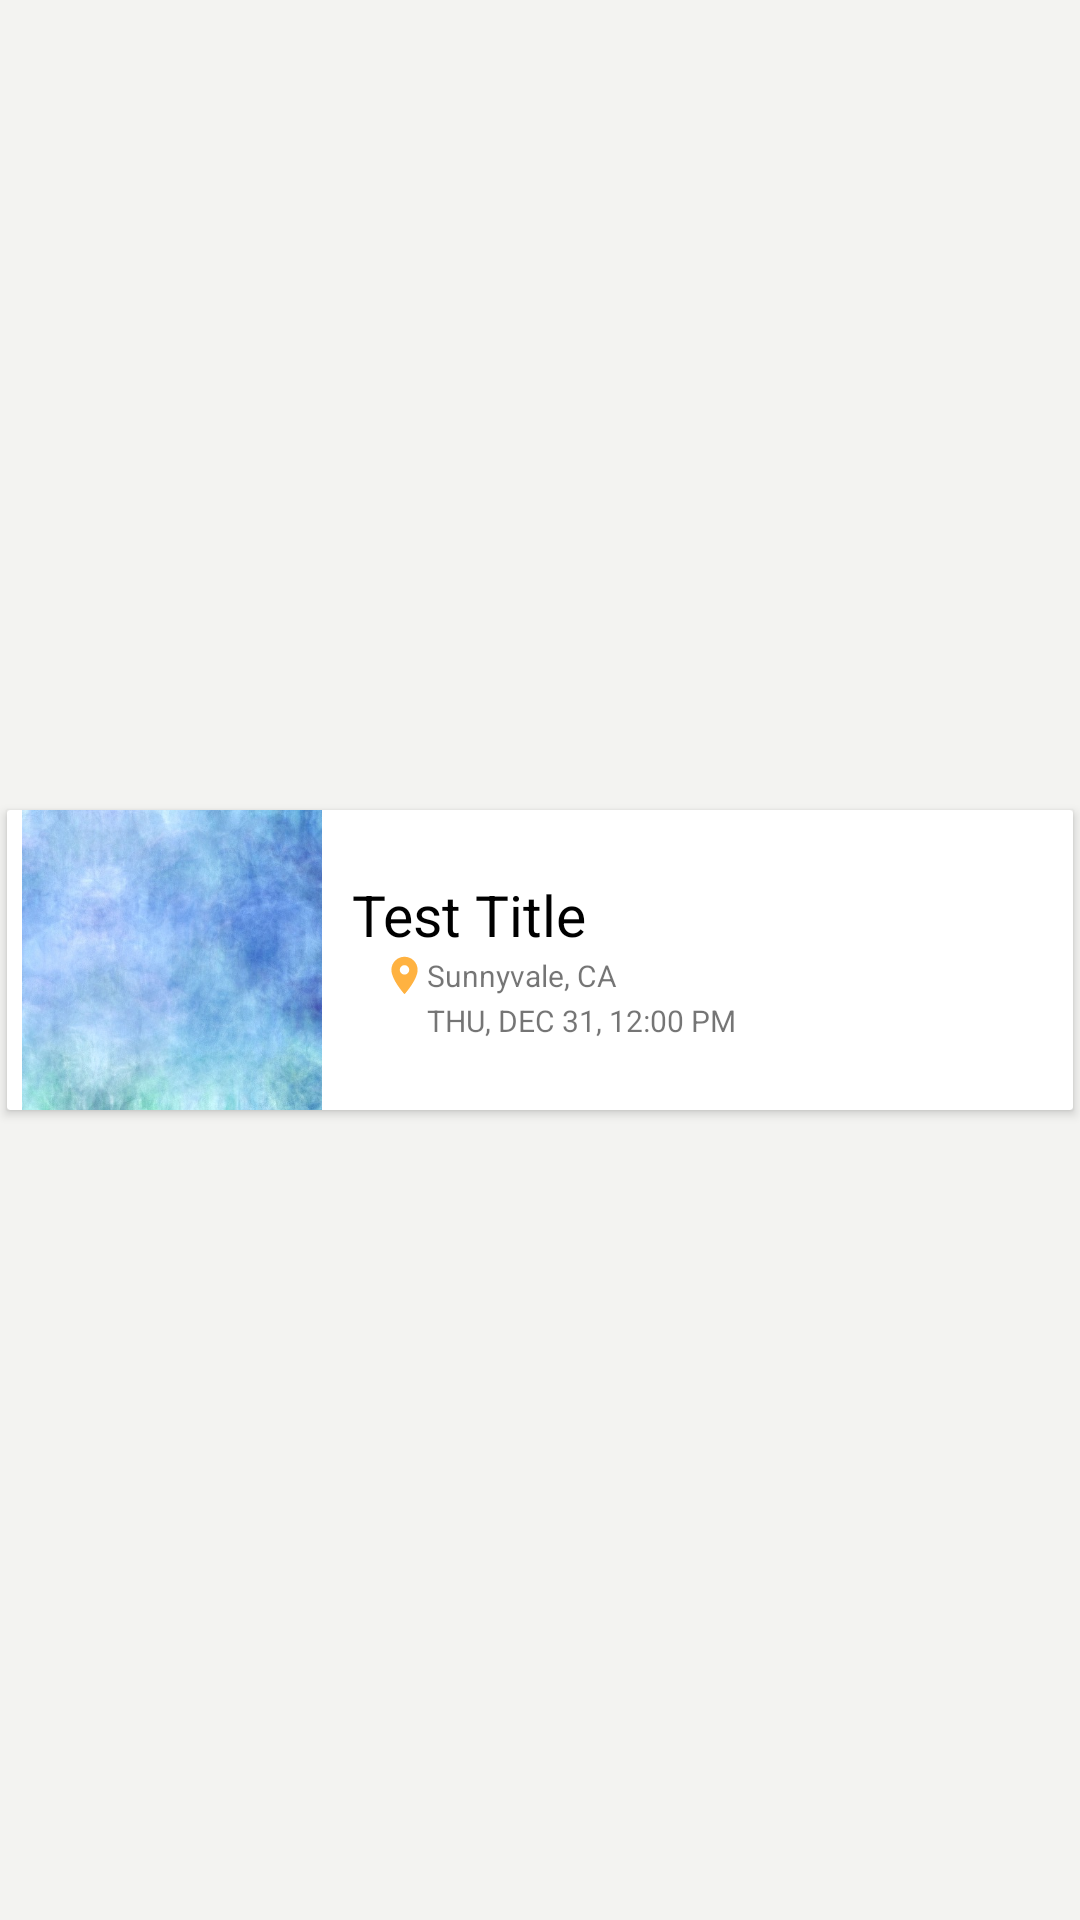

Where icons sit on this 1080px×1920px app screen, as (x1, y1, x2, y2):
pin: (391, 956, 418, 994)
